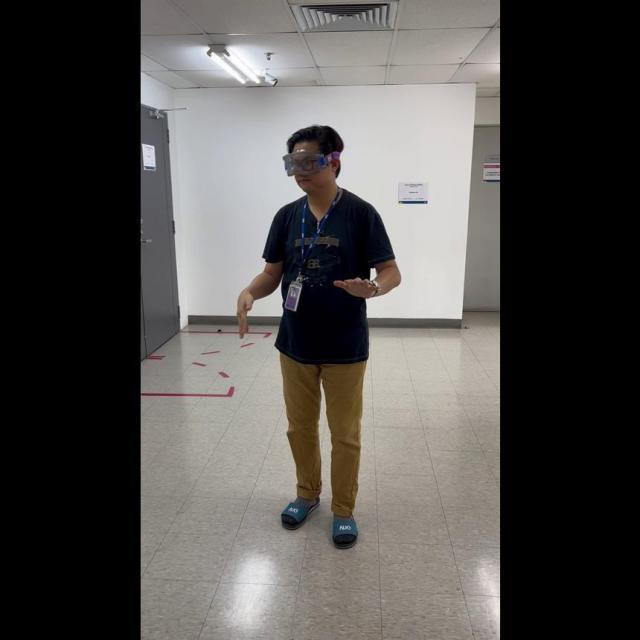bare_hand: (332, 270, 379, 300), (233, 289, 255, 338)
